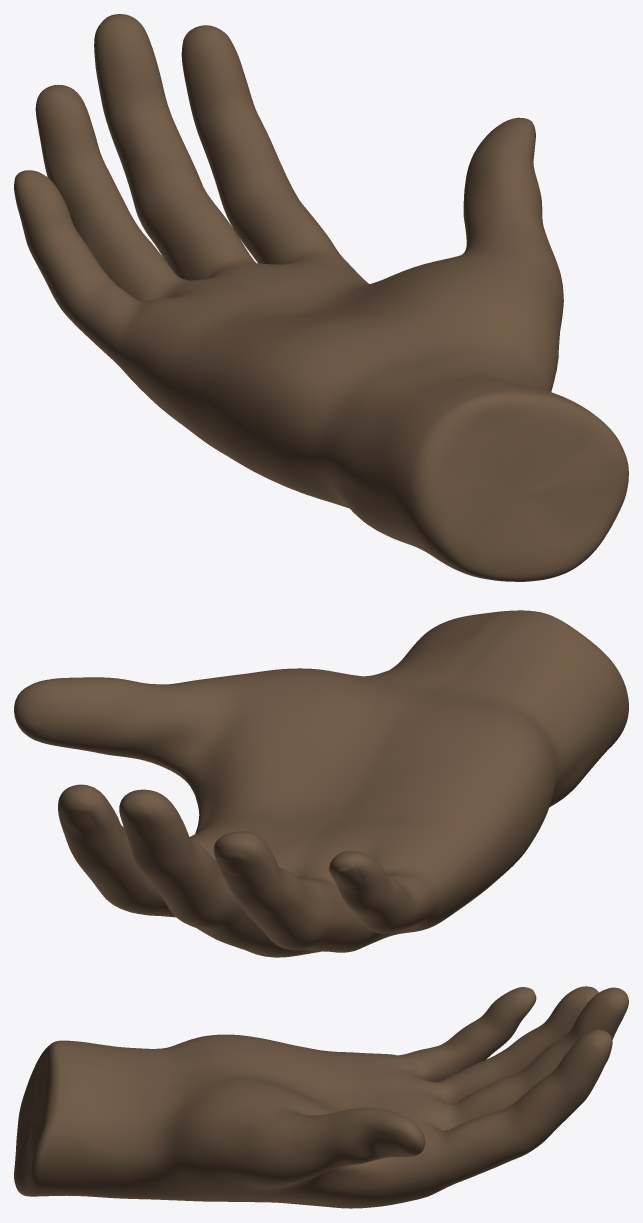
The model's file is hand.gltf.
3 views of the same model, one above another, from view 1: azimuth 30°, elevation 25°; view 2: azimuth 150°, elevation 25°; view 3: azimuth 270°, elevation 25° (orthographic). The views are drawn at different scales.
Visible parts, largest first — view 1: node_id37; view 2: node_id37; view 3: node_id37.
Boxes of the visible parts, x1=… form: node_id37: x1=14, y1=14, x2=628, y2=581; node_id37: x1=14, y1=610, x2=628, y2=957; node_id37: x1=14, y1=986, x2=628, y2=1208.
Size of the model in its own units: 1.02 by 0.6141 by 1.7.
